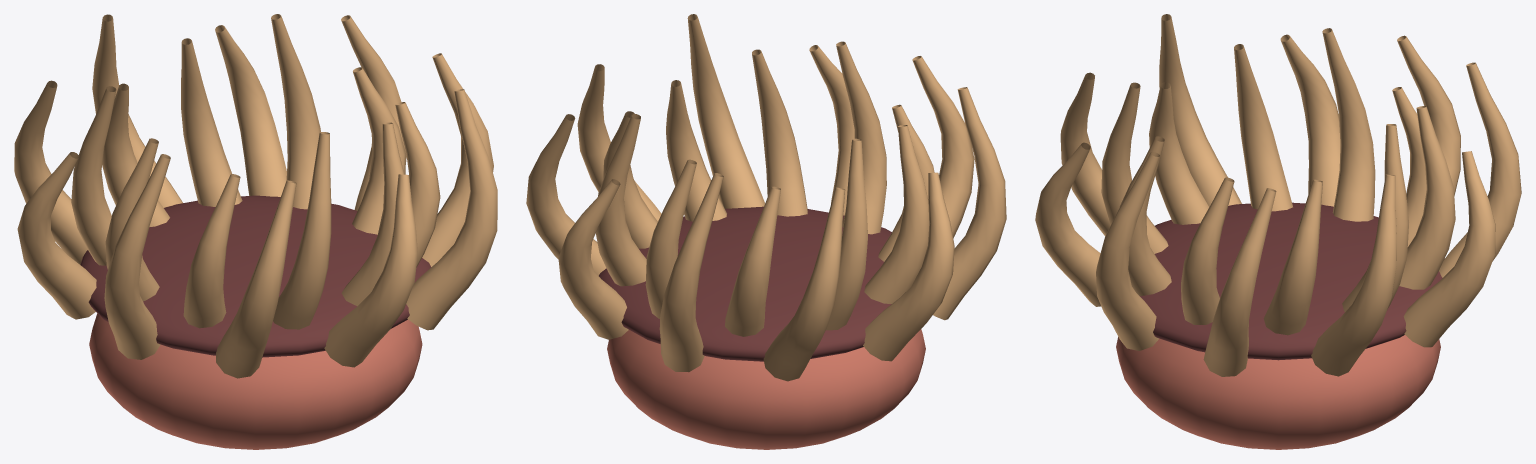
File: anemone.glb
3 views of the same model, side by side, from view 1: azimuth 30°, elevation 25°; view 2: azimuth 150°, elevation 25°; view 3: azimuth 270°, elevation 25° (orthographic). The views are drawn at different scales.
Parts seen in each view (by area): view 1: anemone_textured_mesh; view 2: anemone_textured_mesh; view 3: anemone_textured_mesh.
Boxes of the visible parts, left/top/right/bottom form: anemone_textured_mesh: left=14, top=14, right=497, bottom=449; anemone_textured_mesh: left=526, top=14, right=1006, bottom=449; anemone_textured_mesh: left=1035, top=14, right=1521, bottom=449.
Size of the model in its own units: 1.99 by 1.54 by 2.01.
Materials: 1 (1 with a texture image).
